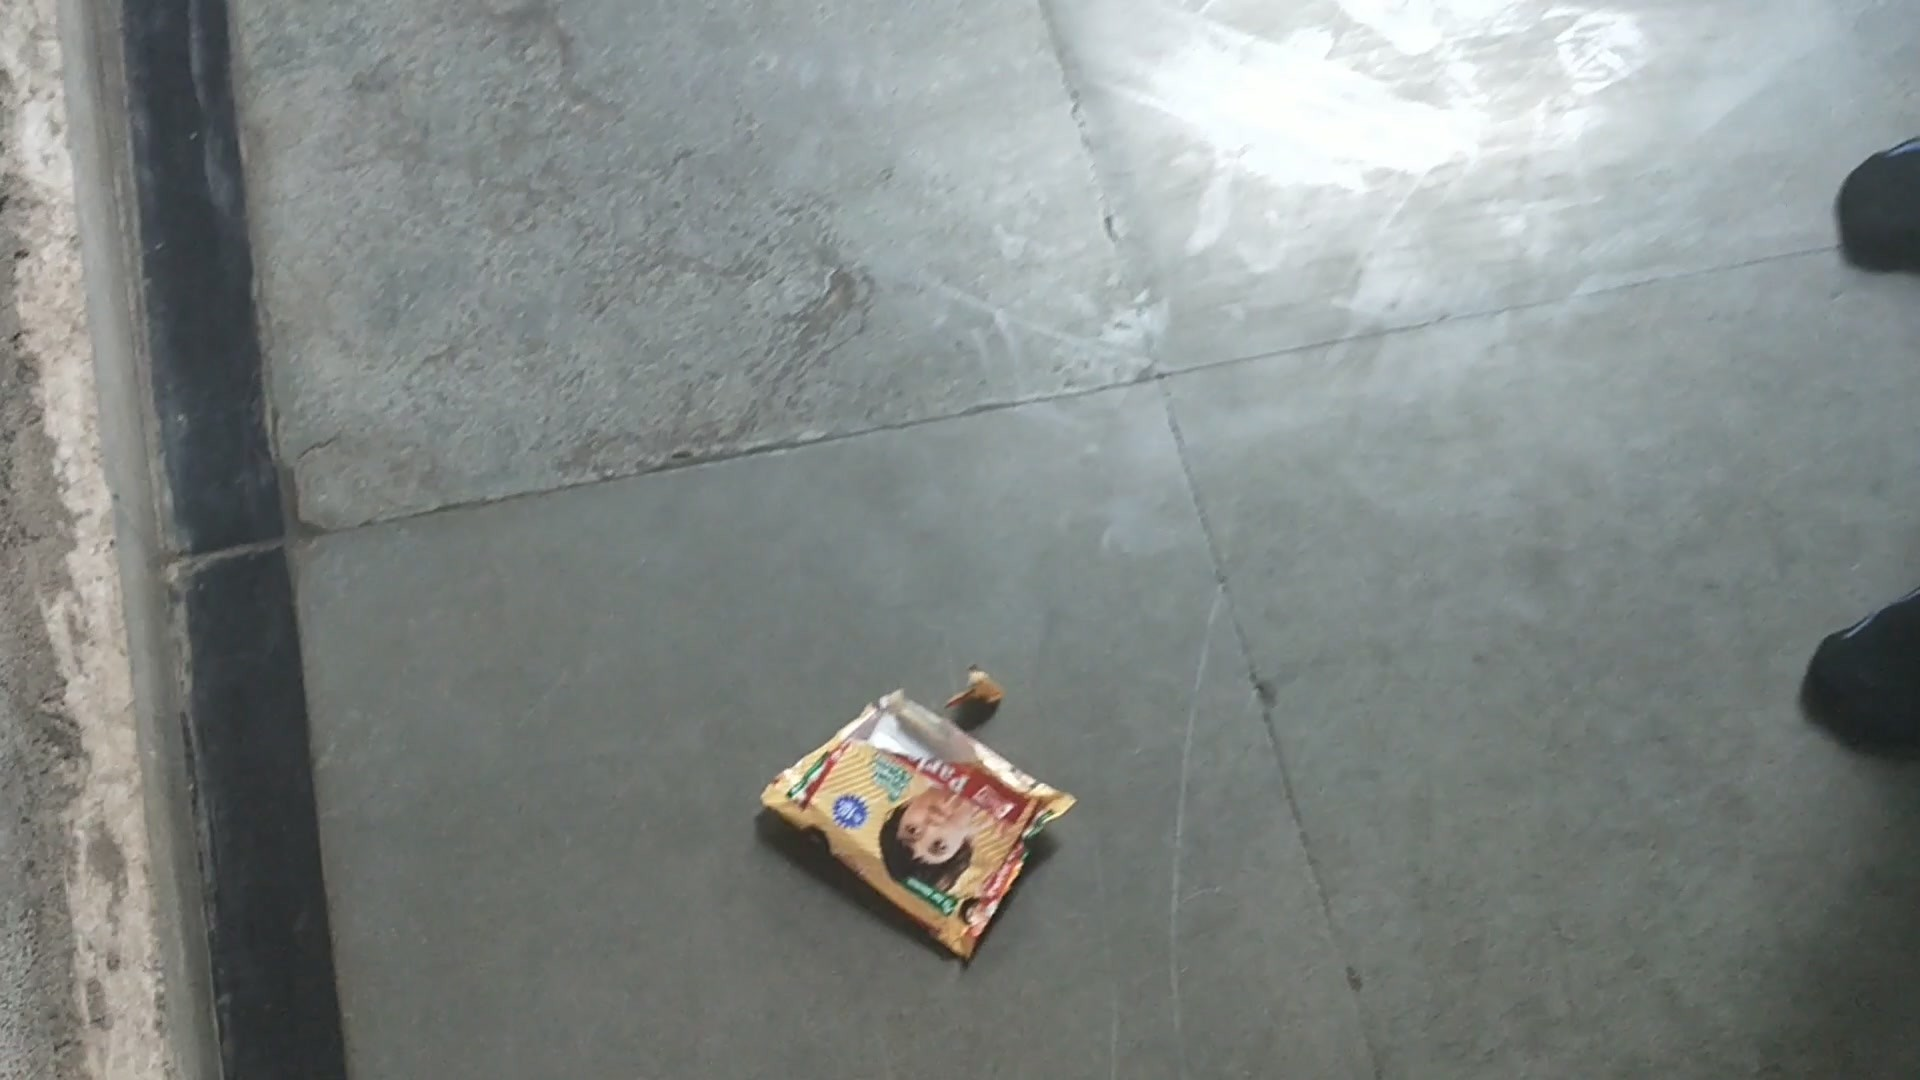parle-g: (829, 752, 1021, 895)
